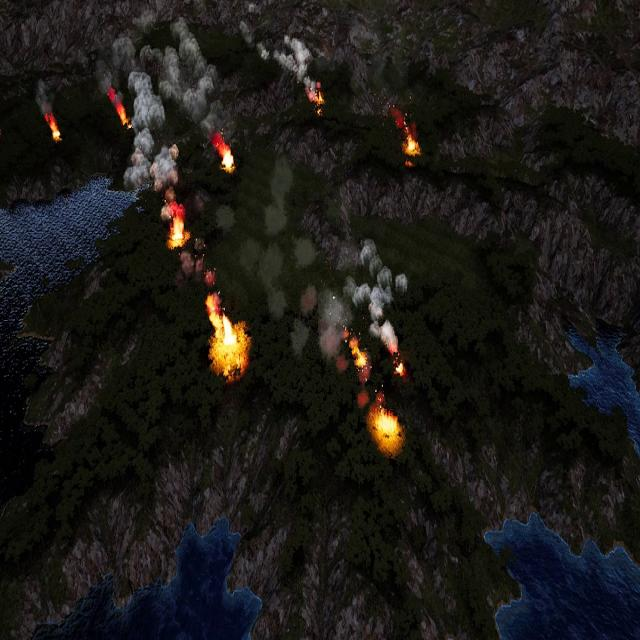fire: (205, 296, 247, 377), (374, 409, 399, 446), (169, 218, 187, 249), (350, 340, 368, 370), (216, 142, 233, 172), (310, 84, 325, 113), (49, 114, 63, 142), (116, 103, 129, 127), (406, 134, 420, 154), (394, 358, 404, 376)
smoke: (244, 161, 406, 363), (104, 17, 222, 218), (345, 242, 405, 356), (242, 18, 316, 94), (265, 156, 293, 236), (178, 240, 216, 294), (32, 78, 51, 118), (386, 103, 408, 130), (216, 204, 234, 234)
